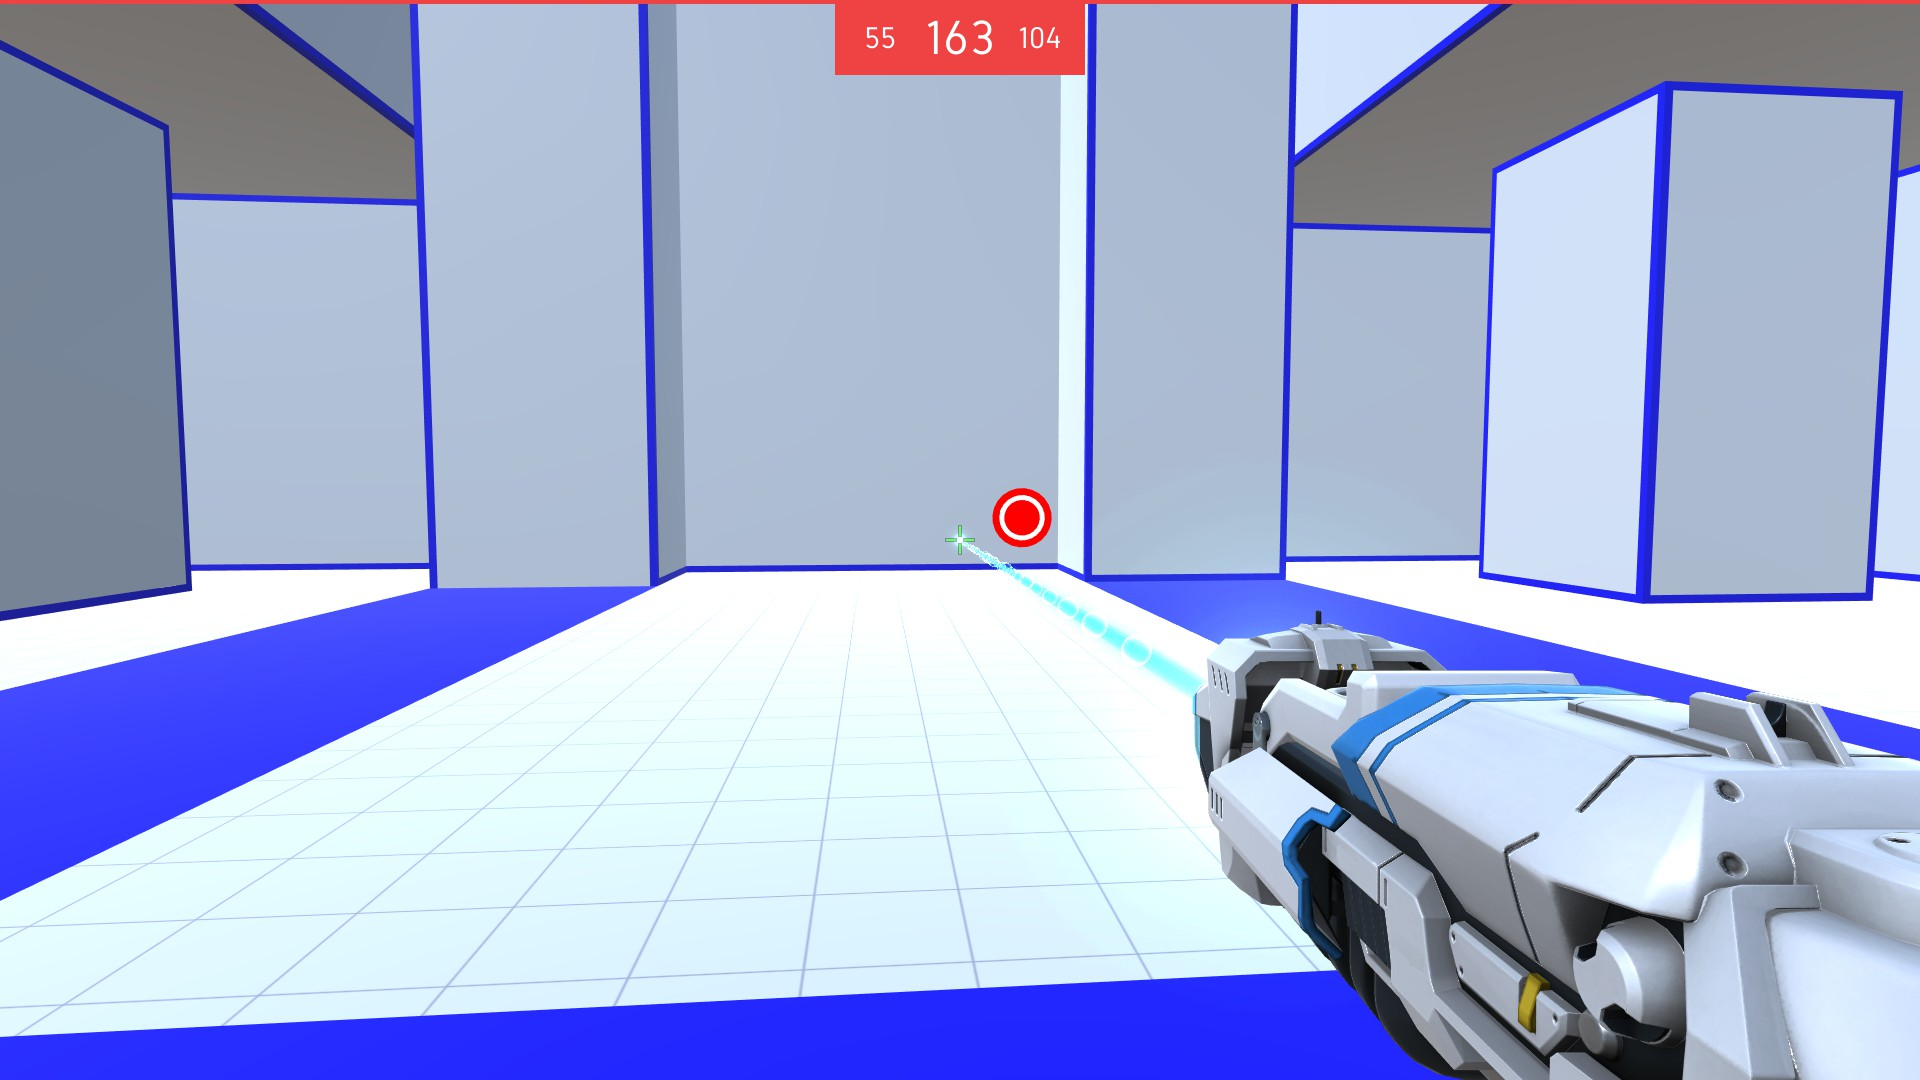target: (992, 488, 1058, 549)
